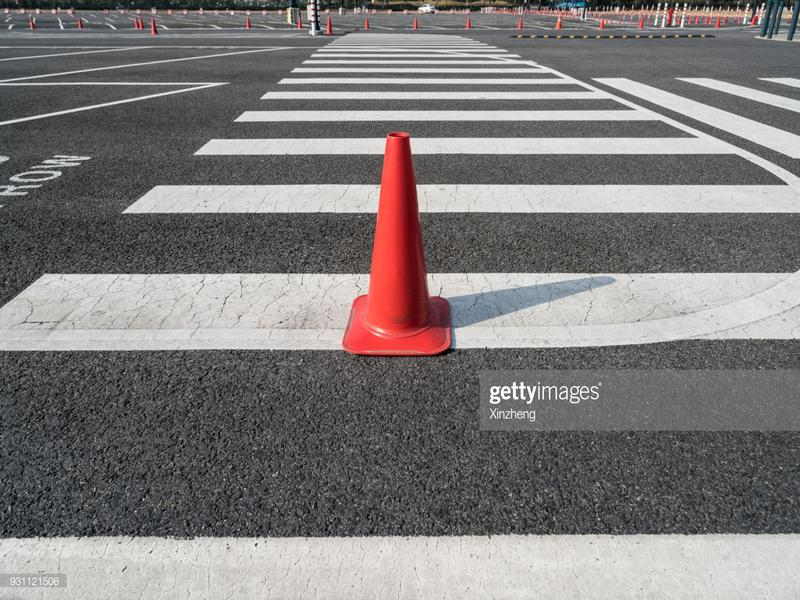Cone: (343, 130, 451, 357), (149, 17, 159, 35), (325, 16, 333, 34), (134, 18, 145, 29), (363, 17, 371, 31), (296, 15, 303, 30), (245, 17, 252, 29), (77, 18, 84, 29), (29, 18, 36, 29), (413, 18, 419, 30), (466, 18, 472, 29)
